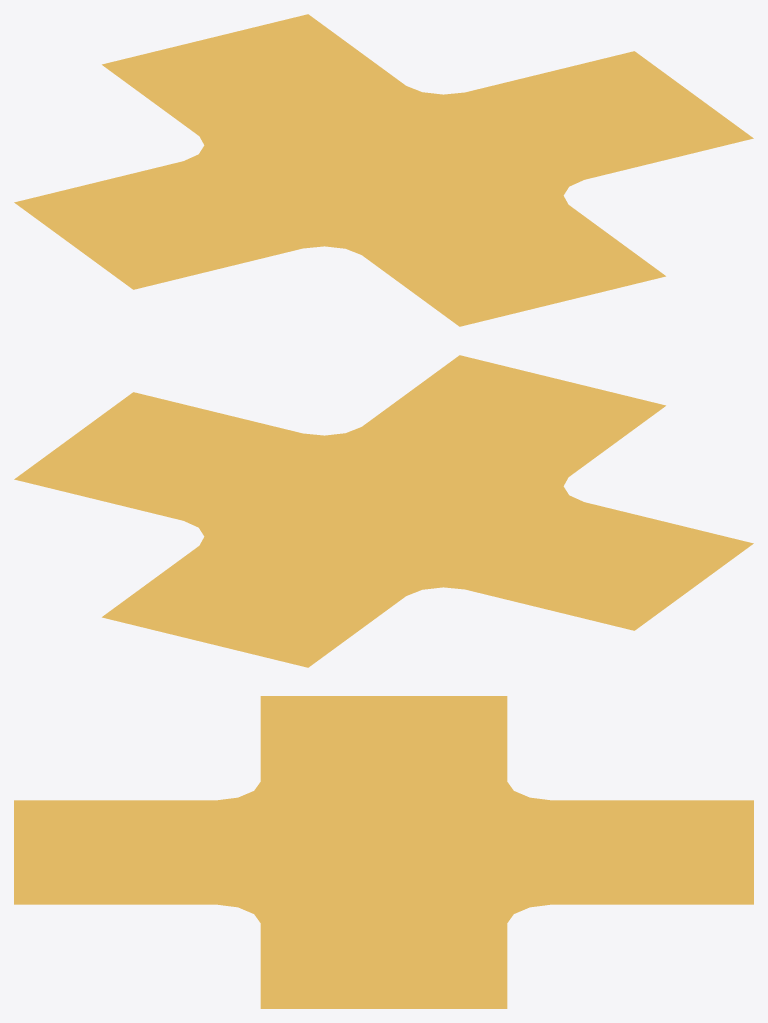
Rendered from Path_C.fbx.
The picture shows the model from 3 angles, top to bottom: view 1: azimuth 30°, elevation 25°; view 2: azimuth 150°, elevation 25°; view 3: azimuth 270°, elevation 25°; orthographic projection. The views are drawn at different scales.
Visible parts, largest first — view 1: Path_C; view 2: Path_C; view 3: Path_C.
Boxes of the visible parts, x1,y1,x2,y2 form: Path_C: (14, 14, 753, 326); Path_C: (14, 355, 753, 667); Path_C: (14, 696, 753, 1008).
Bounding box in the file's own units: 500 × 0 × 500.
